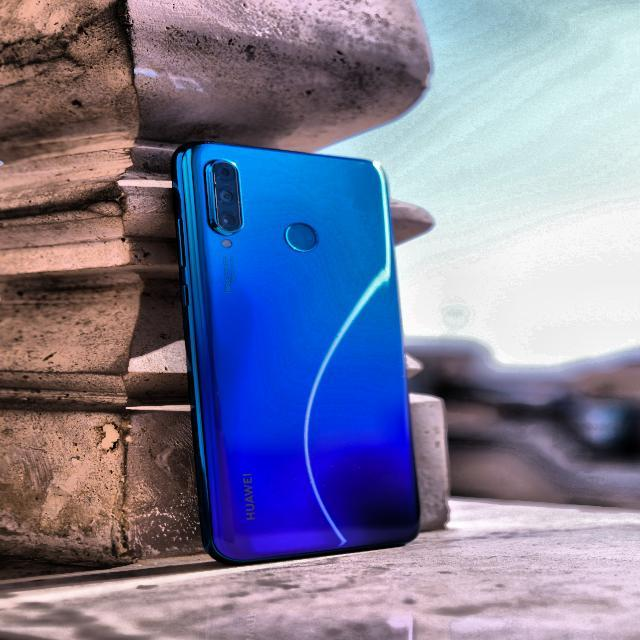Phone: (176, 135, 424, 566)
